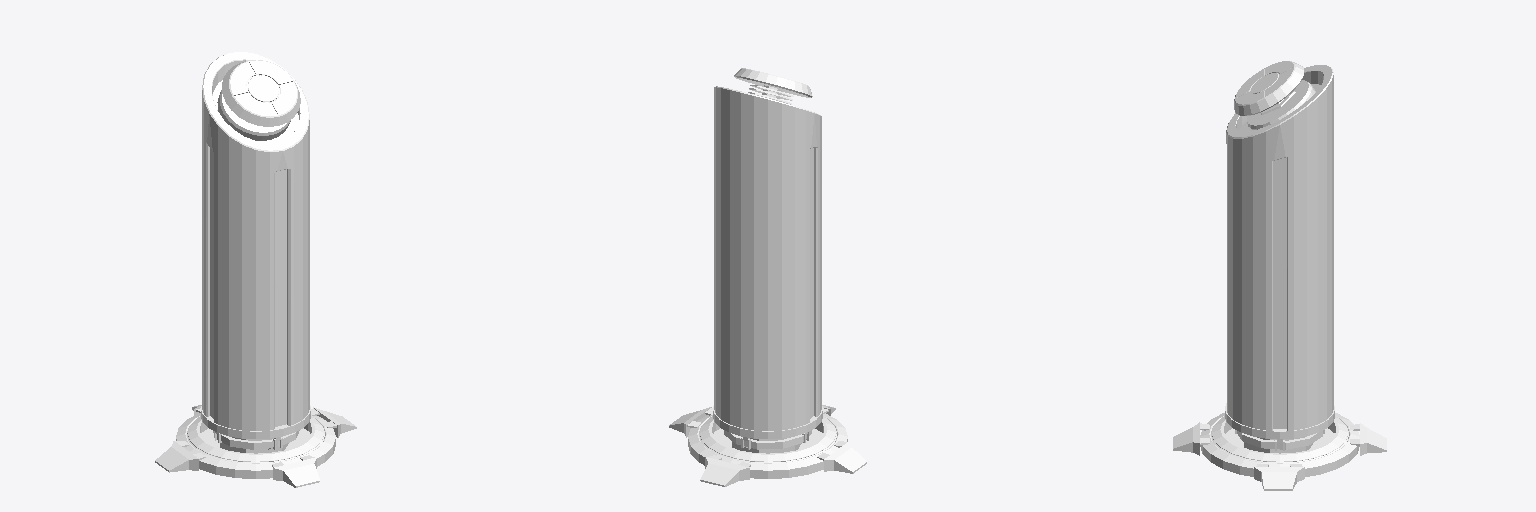
Rendered from switch.obj.
The picture shows the model from 3 angles: view 1: azimuth 30°, elevation 25°; view 2: azimuth 150°, elevation 25°; view 3: azimuth 270°, elevation 25°; orthographic projection.
Visible parts, largest first — view 1: g0; view 2: g0; view 3: g0.
Part boxes in pixels (x1,y1,x2,y2): g0: (155,52,356,487); g0: (669,68,866,486); g0: (1173,61,1386,490).
Bounding box in the file's own units: 24 × 46.72 × 24.